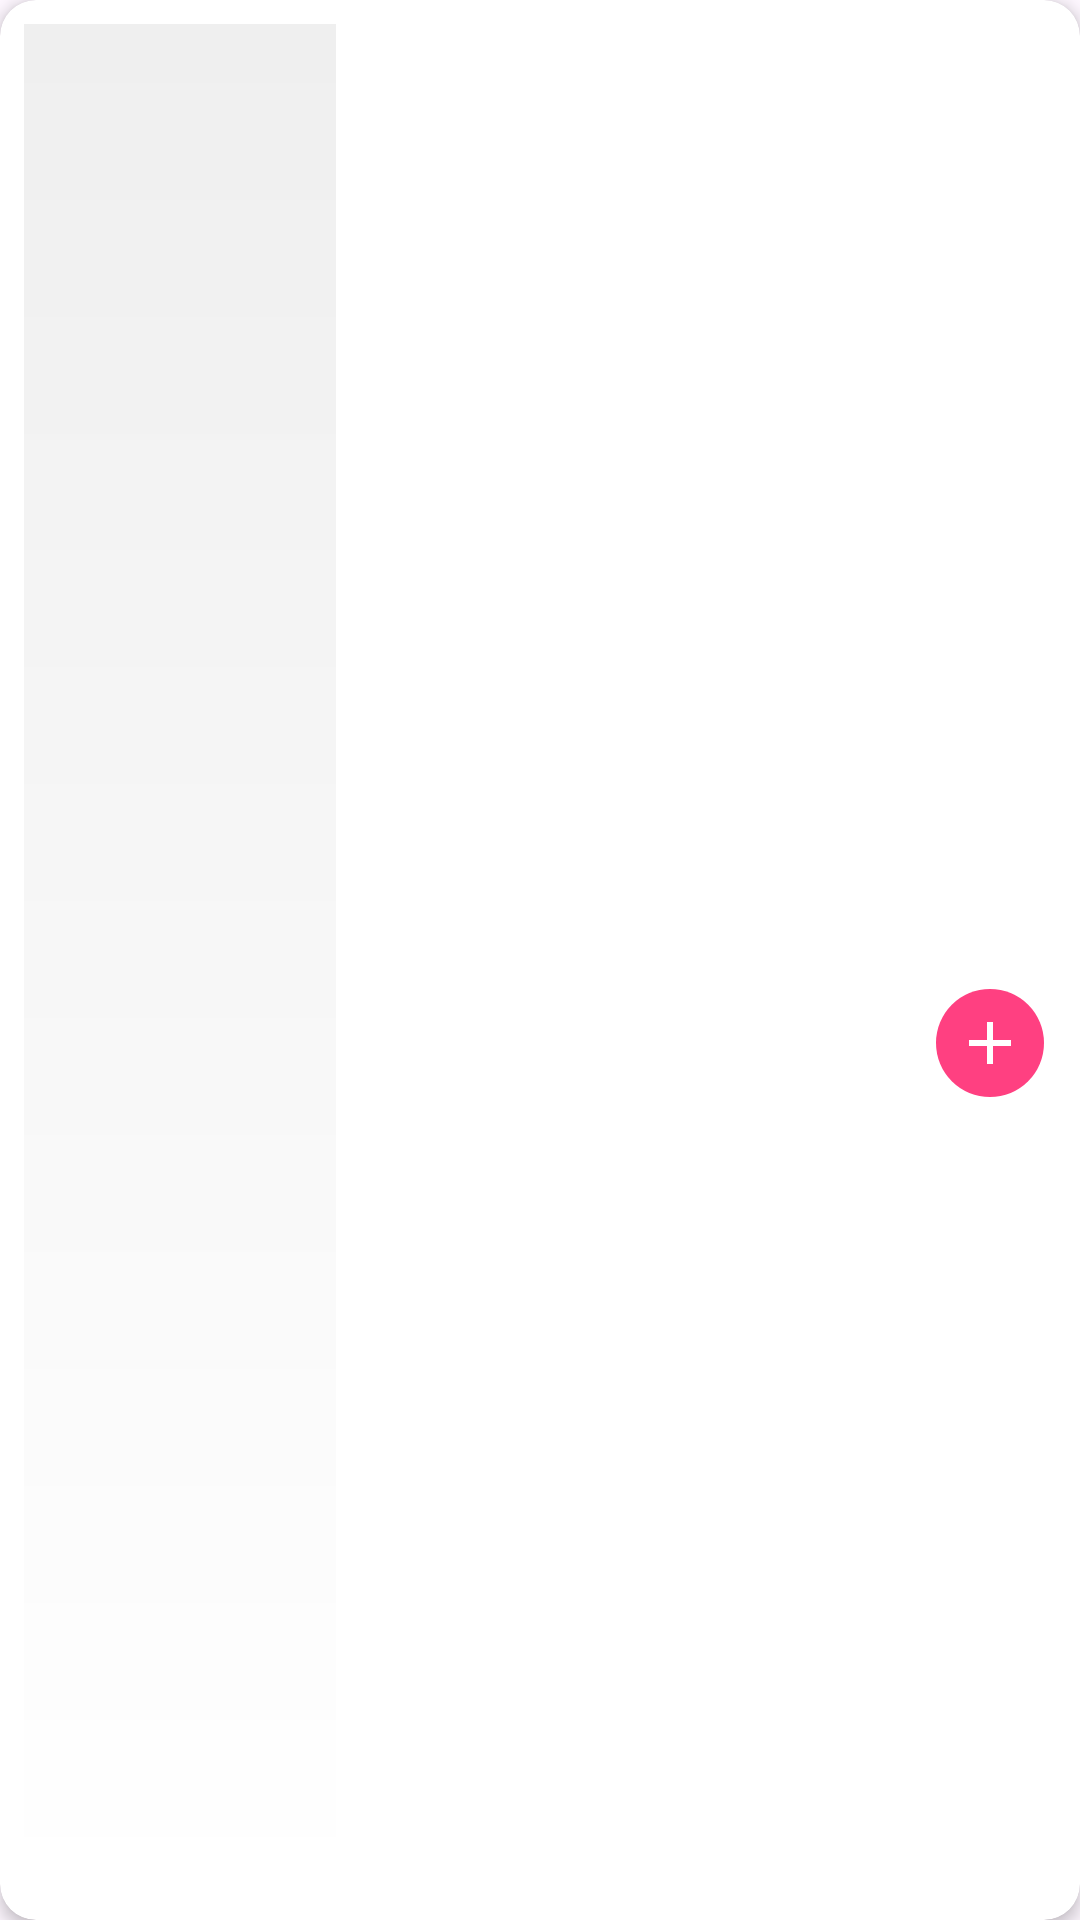

Where to tap for icons on this 1080px x 1920px app screen, as point (x, y):
add: point (990, 1043)
